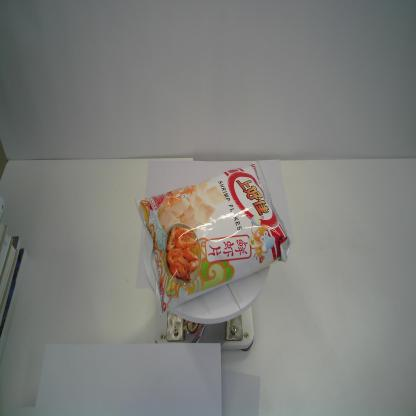Puffed Food: (135, 158, 290, 316)
